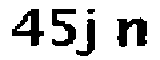4: (11, 6, 46, 49)
5: (50, 6, 79, 50)
j: (78, 6, 99, 60)
n: (112, 13, 150, 52)
